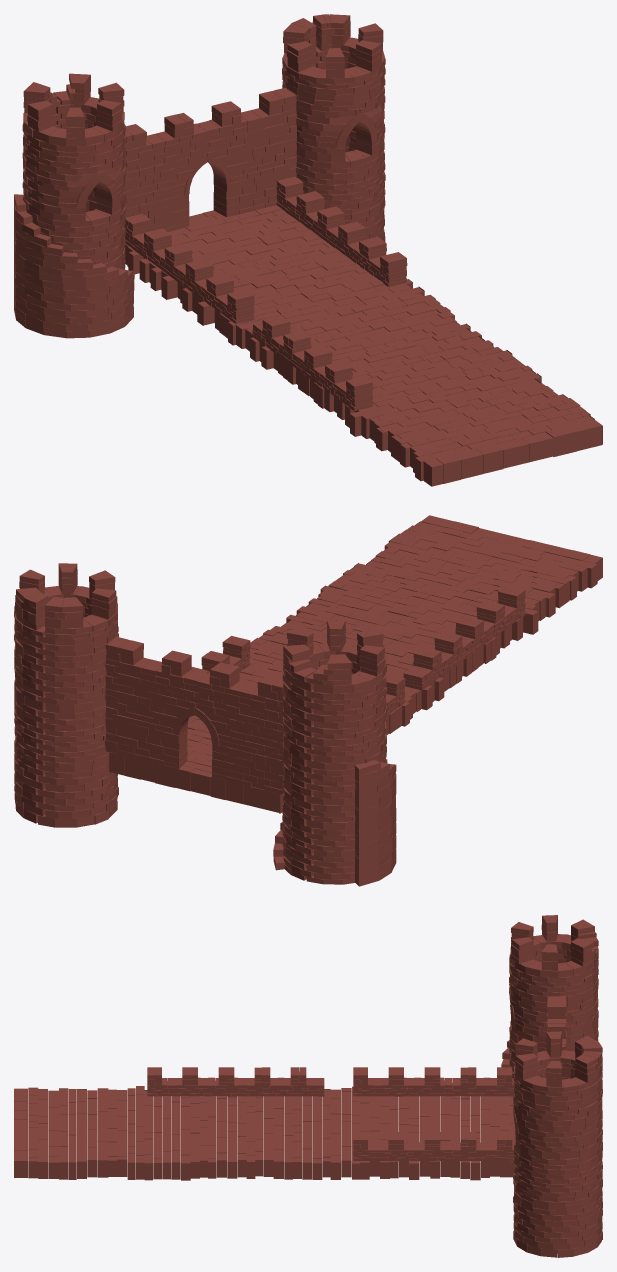
File: EXT_Prova.fbx
3 views of the same model, one above another, from view 1: azimuth 30°, elevation 25°; view 2: azimuth 150°, elevation 25°; view 3: azimuth 270°, elevation 25° (orthographic). The views are drawn at different scales.
Parts seen in each view (by area): view 1: Wall.006, Wall.004, Wall.005, Wall, Wall.001, Wall.002, Wall.003; view 2: Wall.006, Wall.004, Wall.005, Wall, Wall.003, Wall.001, Wall.002; view 3: Wall.006, Wall.005, Wall.004, Wall.003, Wall.002, Wall.001, Wall.
Boxes of the visible parts, <box> form: Wall.006: <box>125,205,602,486</box>; Wall.004: <box>14,73,134,338</box>; Wall.005: <box>282,14,385,241</box>; Wall: <box>124,87,297,231</box>; Wall.001: <box>276,176,407,286</box>; Wall.002: <box>125,214,254,323</box>; Wall.003: <box>252,315,373,411</box>; Wall.006: <box>109,515,602,813</box>; Wall.004: <box>273,620,396,886</box>; Wall.005: <box>14,563,118,827</box>; Wall: <box>105,636,283,794</box>; Wall.003: <box>403,585,525,690</box>; Wall.001: <box>191,636,250,673</box>; Wall.002: <box>385,673,405,716</box>; Wall.006: <box>14,1086,515,1180</box>; Wall.005: <box>513,1031,602,1257</box>; Wall.004: <box>501,915,598,1077</box>; Wall.003: <box>147,1067,324,1096</box>; Wall.002: <box>353,1067,514,1096</box>; Wall.001: <box>353,1132,514,1161</box>; Wall: <box>547,995,566,1050</box>.
Bounding box in the file's own units: 3920 × 2334 × 6411.
